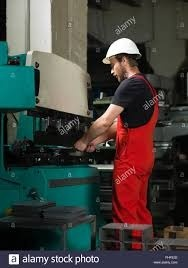helmet: (102, 36, 143, 68)
person with partial safety: (98, 37, 157, 225)
